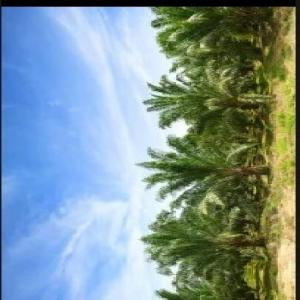palm tree: (135, 6, 296, 299)
